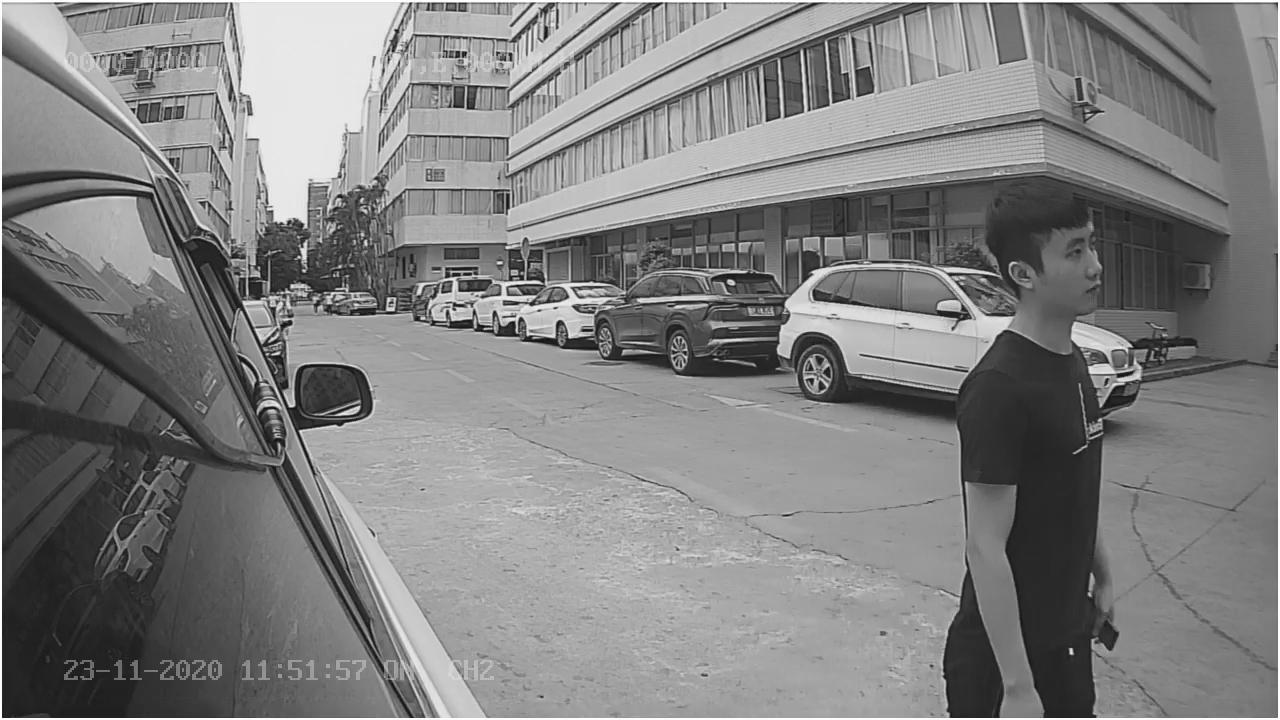person: (931, 169, 1156, 578)
